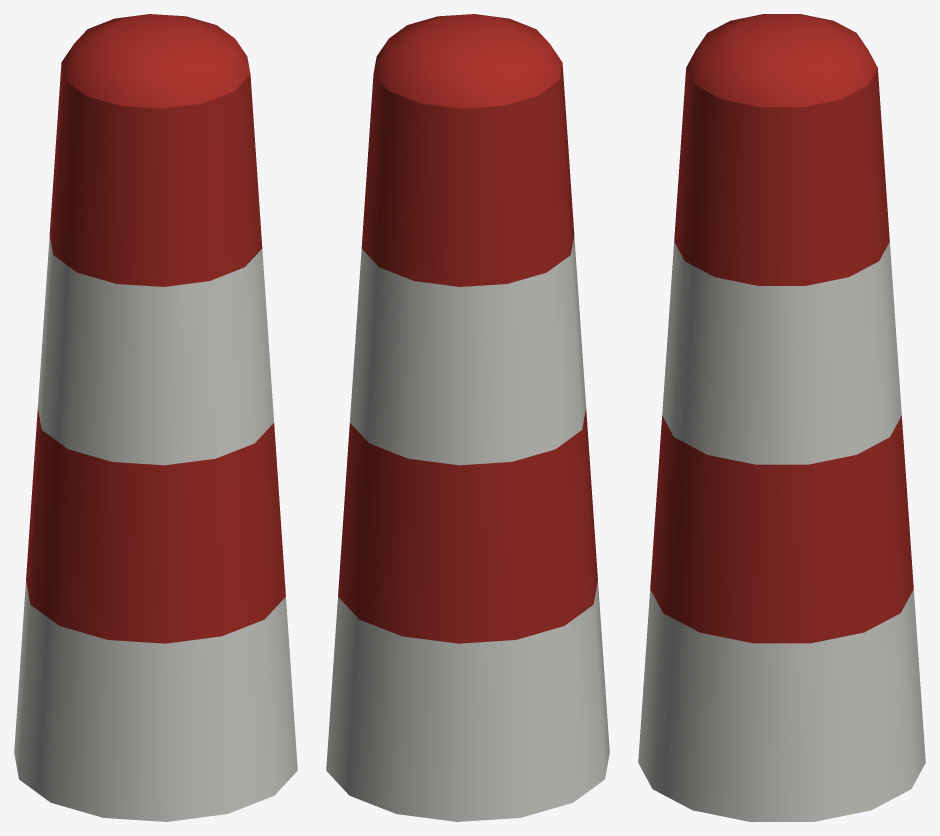
The model's file is bollard_painted_lod1.glb.
3 renders of one model, left to right at view 1: azimuth 30°, elevation 25°; view 2: azimuth 150°, elevation 25°; view 3: azimuth 270°, elevation 25°, orthographic.
Parts seen in each view (by area): view 1: bollard_painted; view 2: bollard_painted; view 3: bollard_painted.
Part boxes in pixels (x1,y1,x2,y2): bollard_painted: (14,14,297,821); bollard_painted: (326,14,609,821); bollard_painted: (638,14,925,821).
Size of the model in its own units: 0.2925 by 0.845 by 0.3.
Materials: 1 (1 with a texture image).
